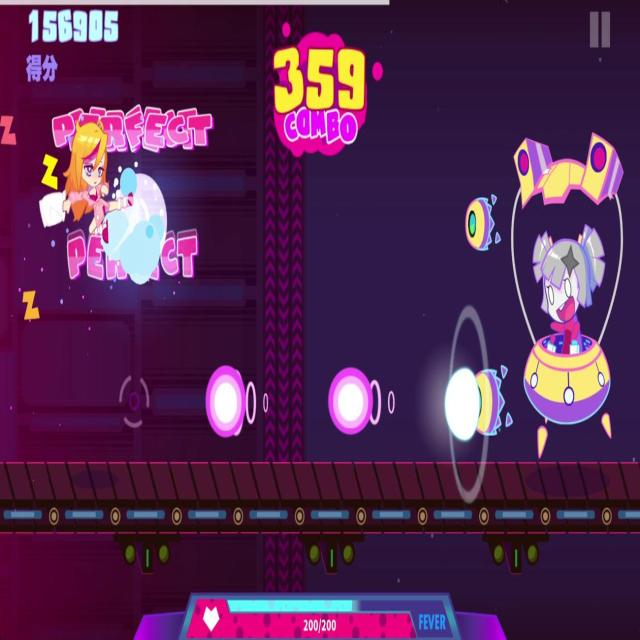qiangboss: (467, 118, 623, 457)
yuan: (201, 354, 274, 441), (326, 366, 400, 435)
